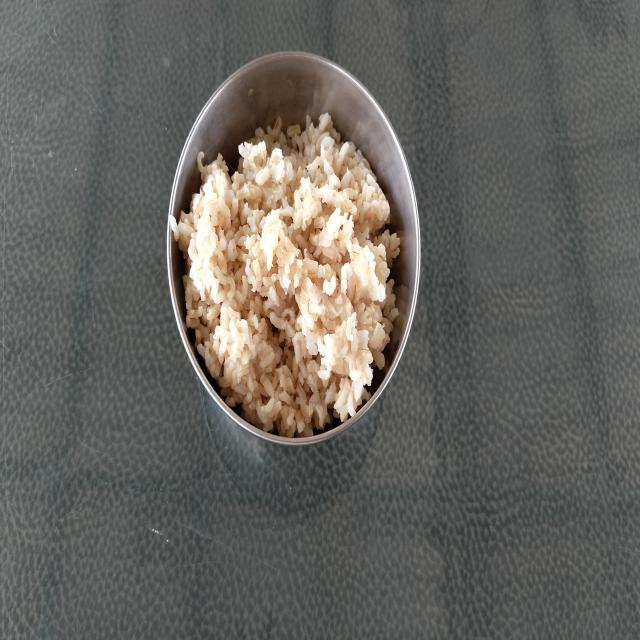brown-rice: (170, 113, 400, 437)
